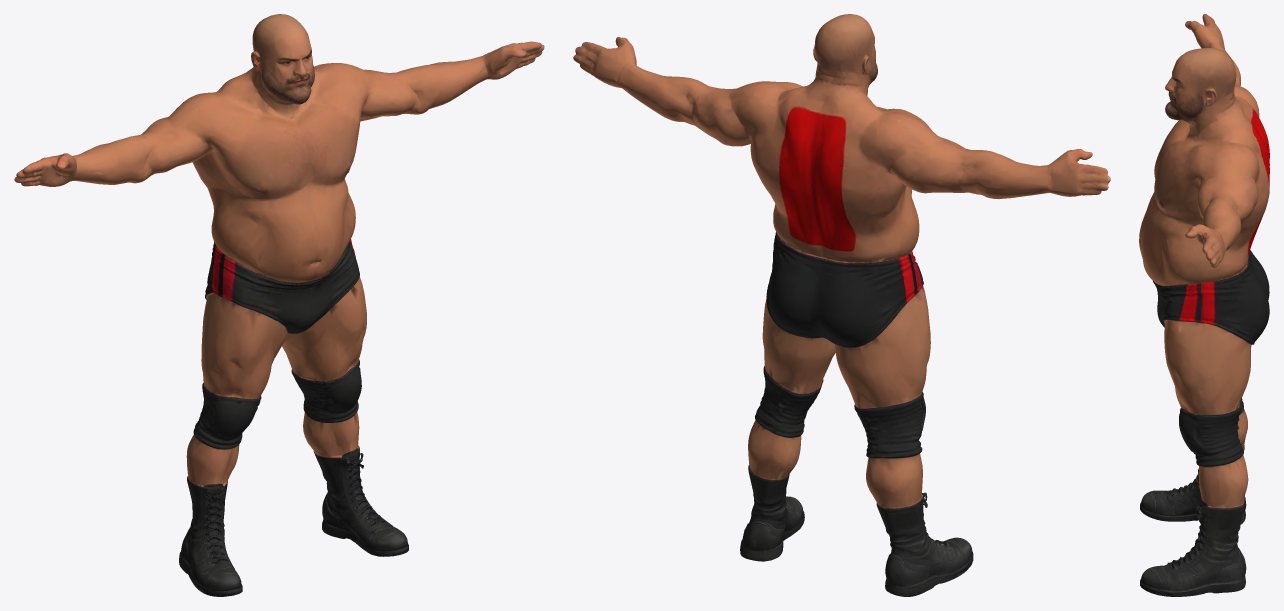
The model's file is 44e81400-8076-427a-8cca-e5a79fb6a878.glb.
3 views of the same model, side by side, from view 1: azimuth 30°, elevation 25°; view 2: azimuth 150°, elevation 25°; view 3: azimuth 270°, elevation 25° (orthographic). The views are drawn at different scales.
Parts seen in each view (by area): view 1: Mesh_0; view 2: Mesh_0; view 3: Mesh_0.
Part boxes in pixels (left/top/right/bottom): Mesh_0: left=14, top=14, right=544, bottom=596; Mesh_0: left=573, top=14, right=1110, bottom=596; Mesh_0: left=1139, top=14, right=1269, bottom=596.
Size of the model in its own units: 1.9 by 1.85 by 0.4368.
1 material, 1 textured.
